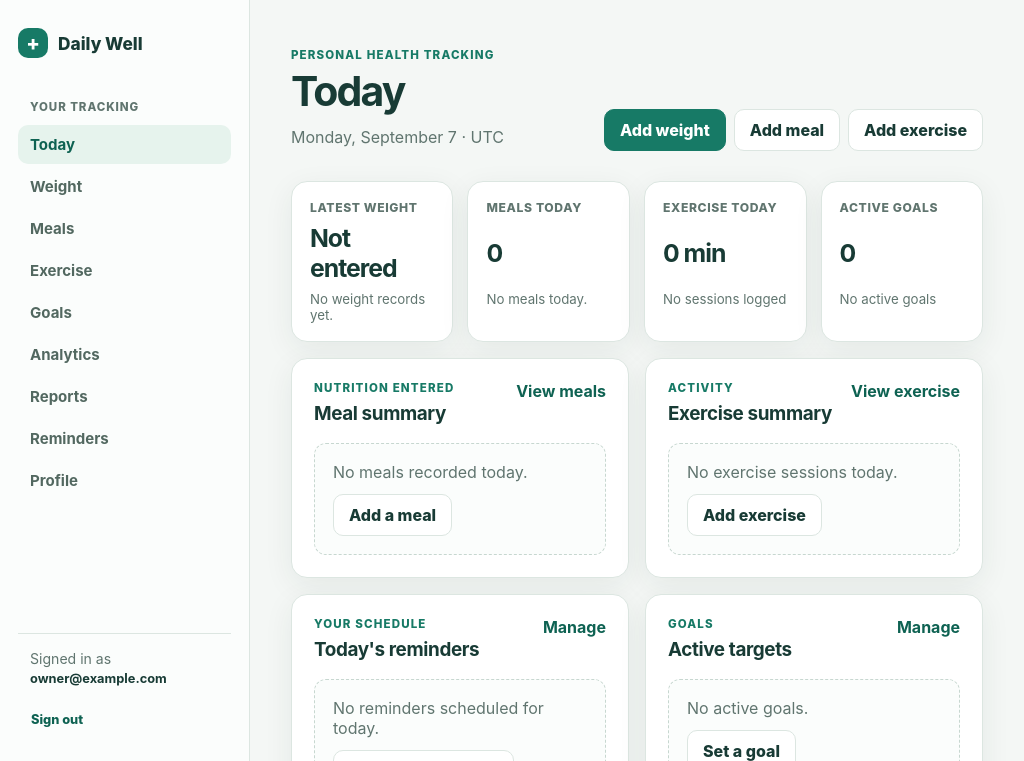
Test case: Phase 9 authentication flow › logs out through the API and returns to login
Check: the heading "Today" is shown, box [291,66,405,116]
Click the button "Sign out".
click(124, 719)  # box [30,698,219,740]
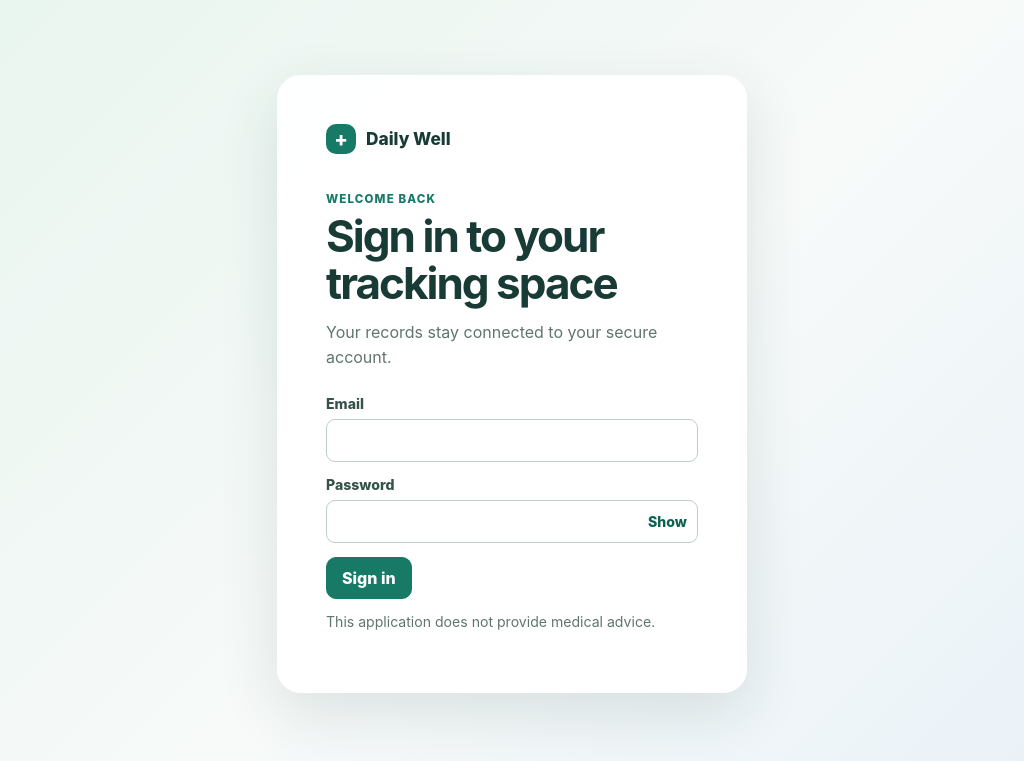
Check: the heading "Sign in to your tracking space" is shown, box [326,209,617,310]
